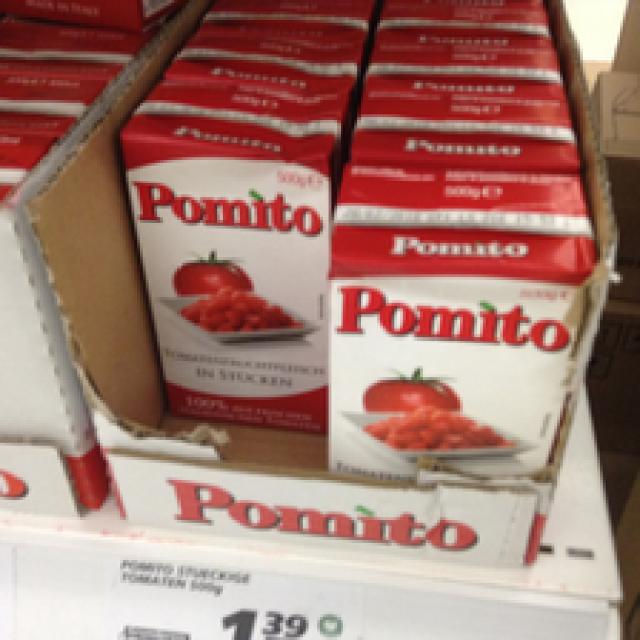groceries: (326, 160, 591, 489), (117, 77, 337, 434)
